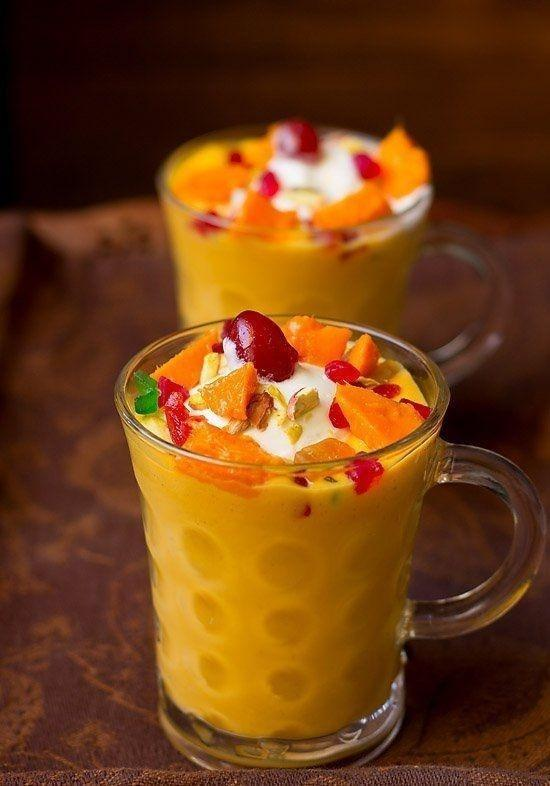glass-mug: (108, 300, 545, 780), (154, 116, 516, 400)
